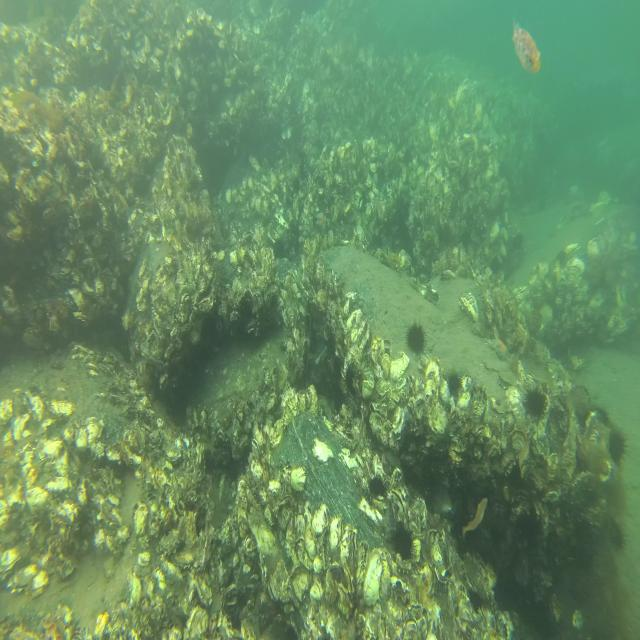echinus: (606, 422, 630, 470), (392, 517, 416, 565), (524, 385, 549, 422), (405, 318, 428, 357), (366, 471, 391, 501), (445, 366, 464, 400), (343, 360, 359, 398)
starfish: (488, 334, 512, 362), (314, 209, 328, 234)
